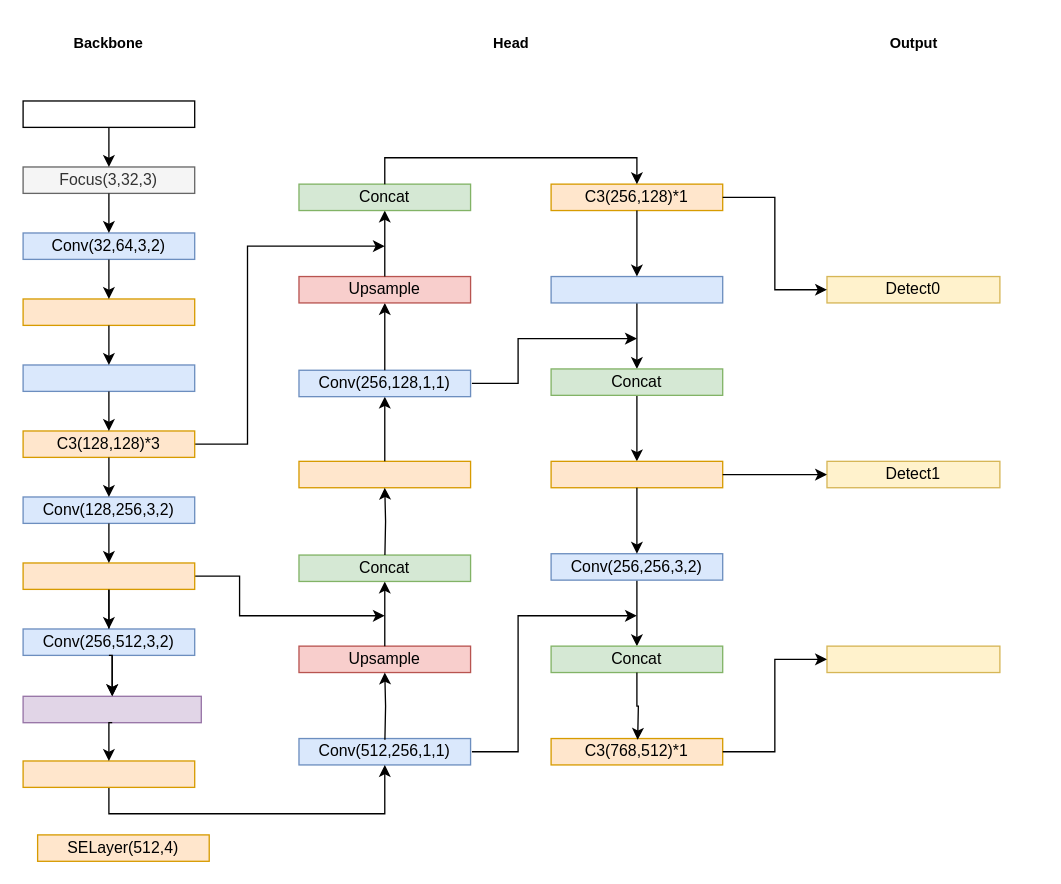
This 1061x884 diagram has some shape labels left out. Each missing label, with the box of its shape:
C3(256,256)*3: (22, 562, 195, 589)
C3(384,256)*1: (550, 460, 723, 488)
C3(512,256)*1: (298, 460, 471, 488)
C3(512,512)*1: (22, 760, 195, 787)
C3(64,64)*1: (22, 298, 195, 325)
Conv(128,128,3,2): (550, 275, 723, 303)
Conv(64,128,3,2): (22, 364, 195, 391)
Detect2: (826, 645, 1000, 673)
Input(640,640,3): (22, 100, 195, 127)
SPP(512,512,[5,9,13]): (22, 695, 201, 723)
